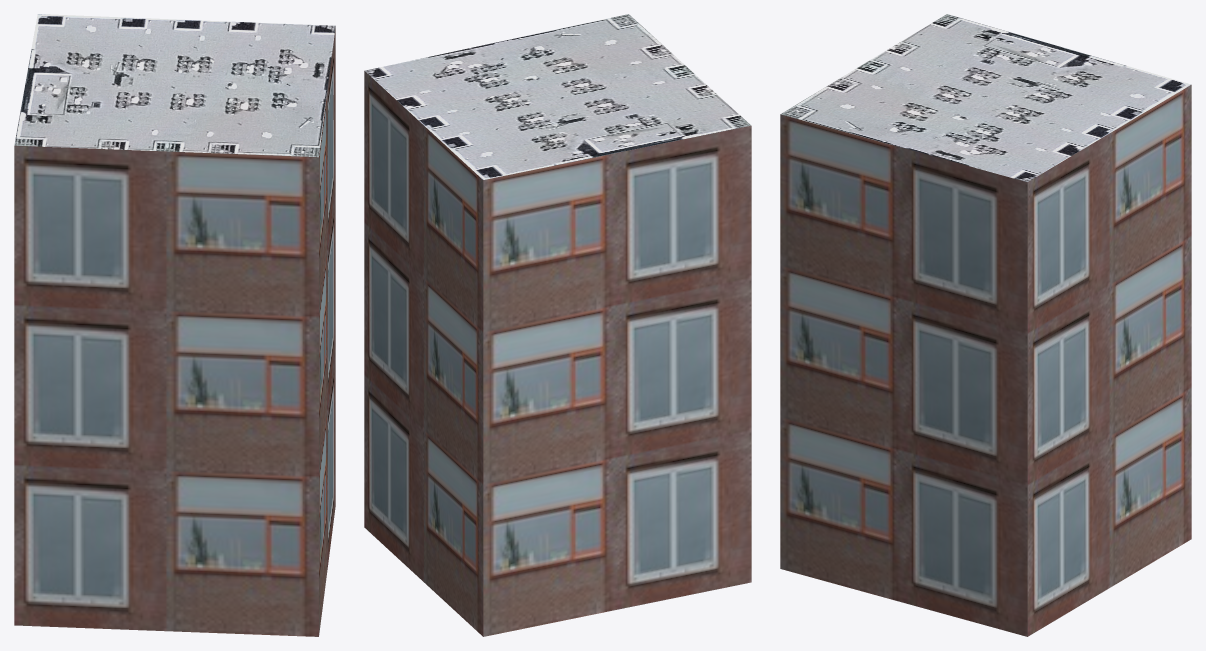
File: ResTex__1844.fbx
The picture shows the model from 3 angles, left to right: view 1: azimuth 30°, elevation 25°; view 2: azimuth 150°, elevation 25°; view 3: azimuth 270°, elevation 25°; orthographic projection. The views are drawn at different scales.
Parts seen in each view (by area): view 1: CityEngineMaterial_19_m, CityEngineMaterial_15_m; view 2: CityEngineMaterial_19_m, CityEngineMaterial_15_m; view 3: CityEngineMaterial_19_m, CityEngineMaterial_15_m.
Part boxes in pixels (x1,y1,x2,y2): CityEngineMaterial_19_m: (14, 28, 335, 636); CityEngineMaterial_15_m: (14, 14, 335, 157); CityEngineMaterial_19_m: (364, 71, 751, 636); CityEngineMaterial_15_m: (365, 14, 750, 179); CityEngineMaterial_19_m: (780, 85, 1191, 636); CityEngineMaterial_15_m: (780, 14, 1191, 182).
Bounding box in the file's own units: 7.15 × 9 × 7.38.
2 materials, 2 textured.
